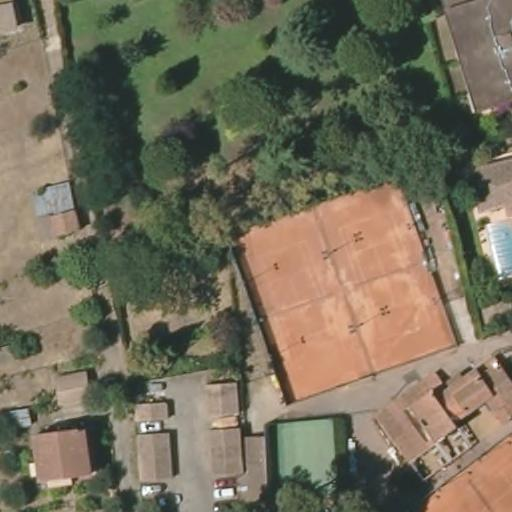pool: (484, 212, 511, 278)
